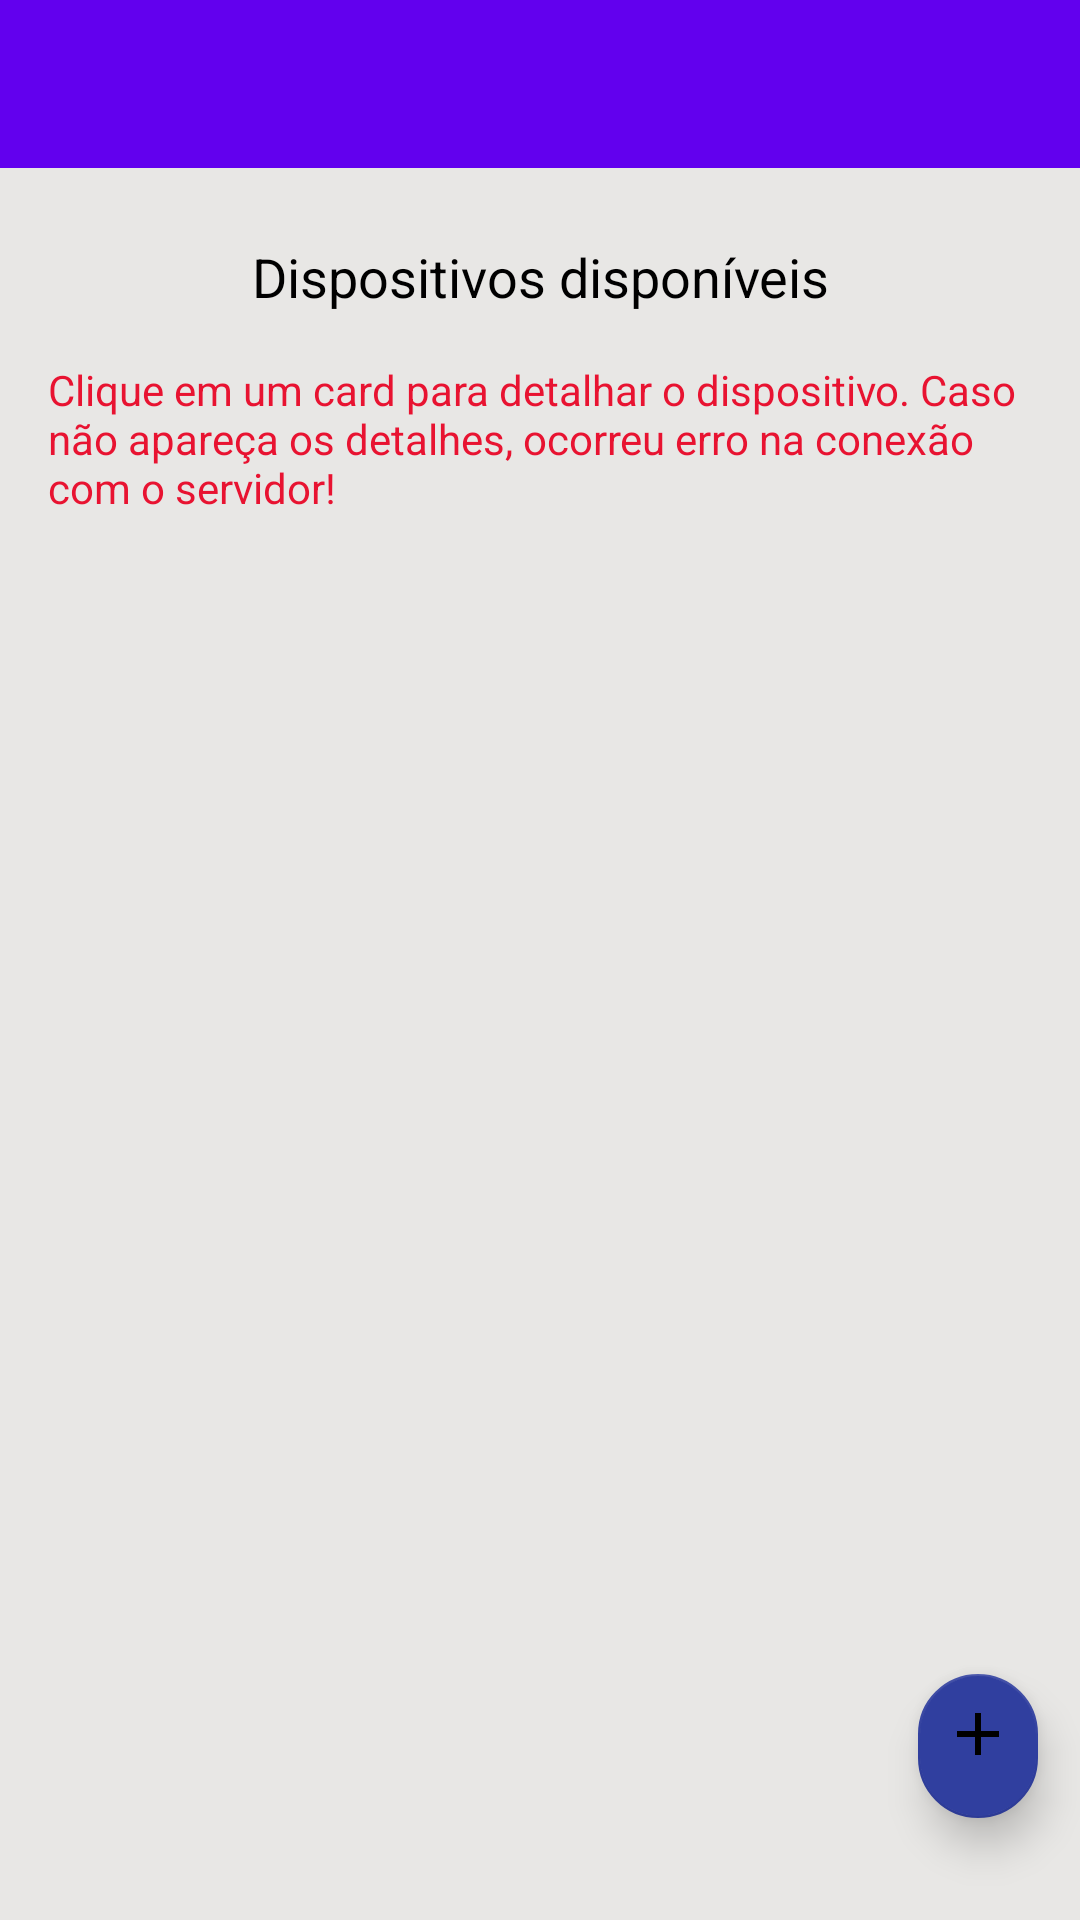

Icons on this 1080x1920 Android screen, each with the point to tap as [x,y]:
add: [979,1752]
